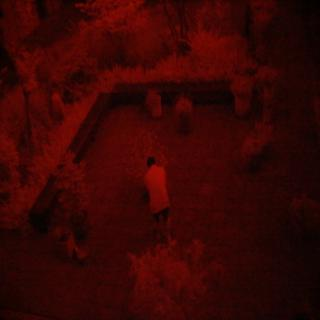person: (136, 146, 180, 243)
